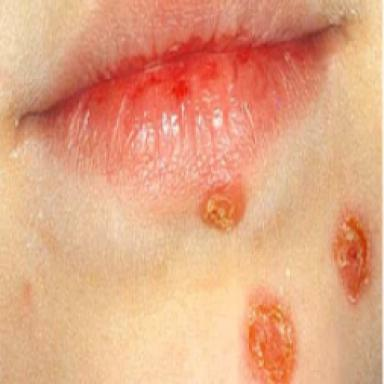Impetigo: (247, 291, 296, 384), (333, 213, 369, 303), (199, 181, 245, 230)
